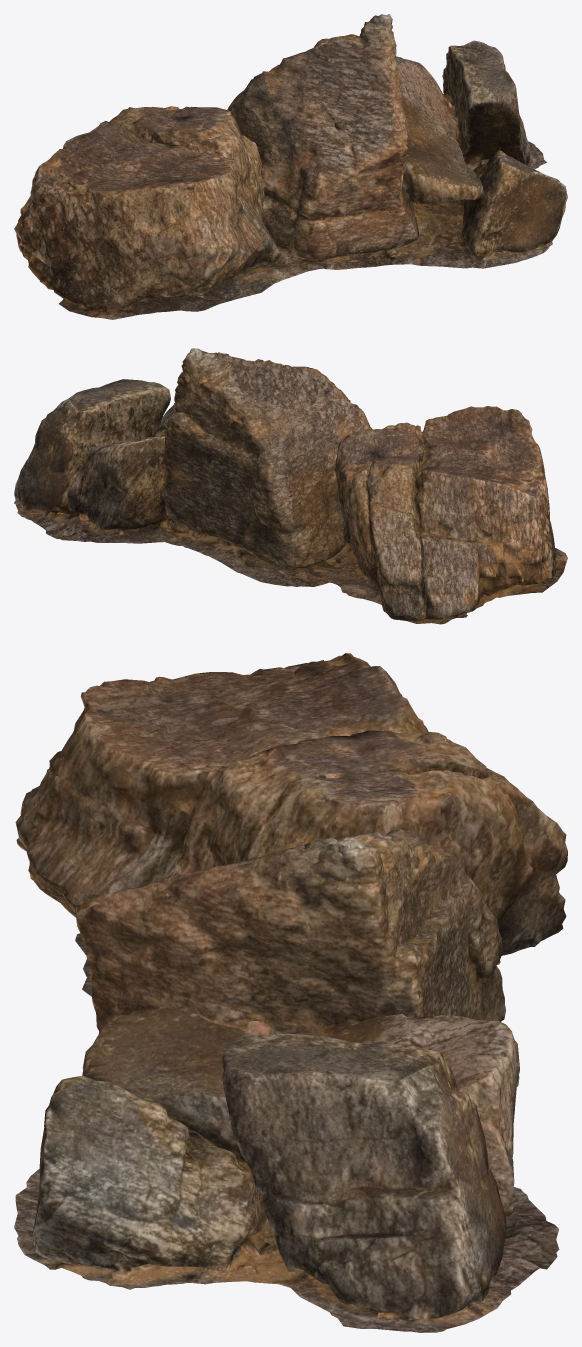
Rendered from mesa_boulder.glb.
3 views of the same model, one above another, from view 1: azimuth 30°, elevation 25°; view 2: azimuth 150°, elevation 25°; view 3: azimuth 270°, elevation 25° (orthographic). The views are drawn at different scales.
Visible parts, largest first — view 1: boulder_02; view 2: boulder_02; view 3: boulder_02.
Part boxes in pixels (x1,y1,x2,y2): boulder_02: (14,14,567,319); boulder_02: (14,348,567,624); boulder_02: (14,653,567,1332).
Bounding box in the file's own units: 2.53 × 0.8826 × 1.23.
Materials: 1 (1 with a texture image).
